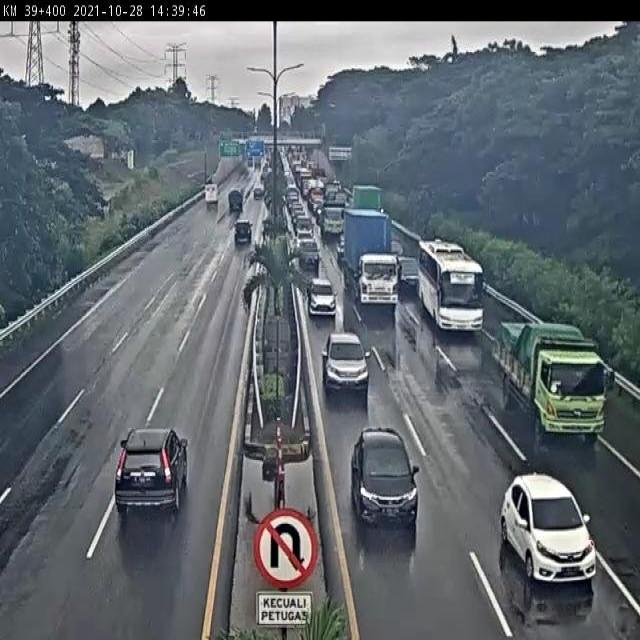big bus: (416, 230, 487, 346)
big truck: (340, 204, 400, 308), (348, 177, 385, 220)
car: (494, 468, 600, 595), (345, 421, 424, 543), (108, 422, 195, 518), (318, 325, 370, 395), (388, 249, 419, 295), (306, 278, 338, 322), (296, 238, 322, 274), (231, 217, 256, 248), (223, 189, 245, 216), (292, 224, 314, 248), (293, 210, 315, 230), (250, 186, 264, 202)
mid truck: (486, 316, 615, 456), (313, 196, 347, 239)
small truck: (203, 178, 223, 210)
